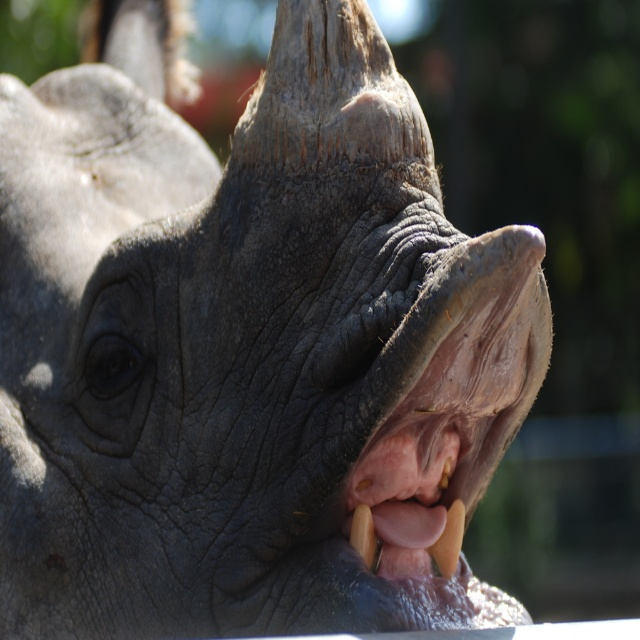Rhinoceros: (0, 0, 558, 639)
